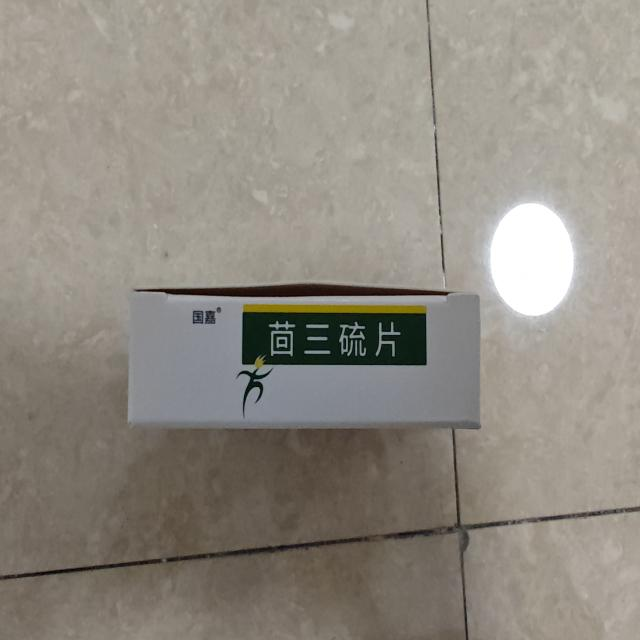box: (120, 275, 490, 443)
